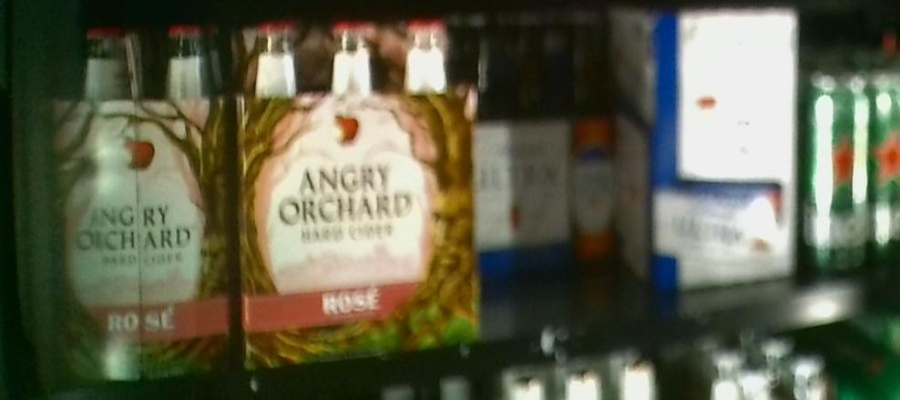bottle: (241, 17, 483, 354), (31, 18, 240, 382), (622, 10, 795, 291), (472, 16, 616, 266), (803, 71, 871, 273)
